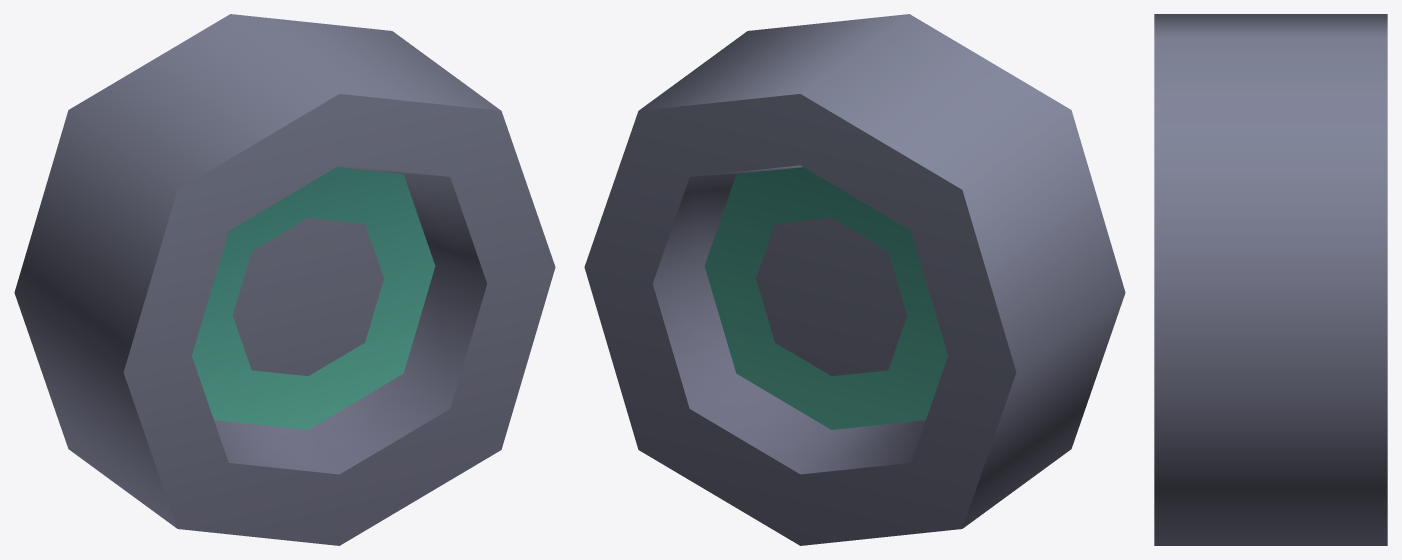
File: coin-silver.glb
3 renders of one model, left to right at view 1: azimuth 30°, elevation 25°; view 2: azimuth 150°, elevation 25°; view 3: azimuth 270°, elevation 25°, orthographic. The views are drawn at different scales.
Visible parts, largest first — view 1: coin-silver; view 2: coin-silver; view 3: coin-silver.
Part boxes in pixels (bbox=[...]): coin-silver: bbox=[14, 14, 555, 545]; coin-silver: bbox=[584, 14, 1125, 545]; coin-silver: bbox=[1154, 14, 1387, 545].
Bounding box in the file's own units: 0.4 × 0.4 × 0.175.
